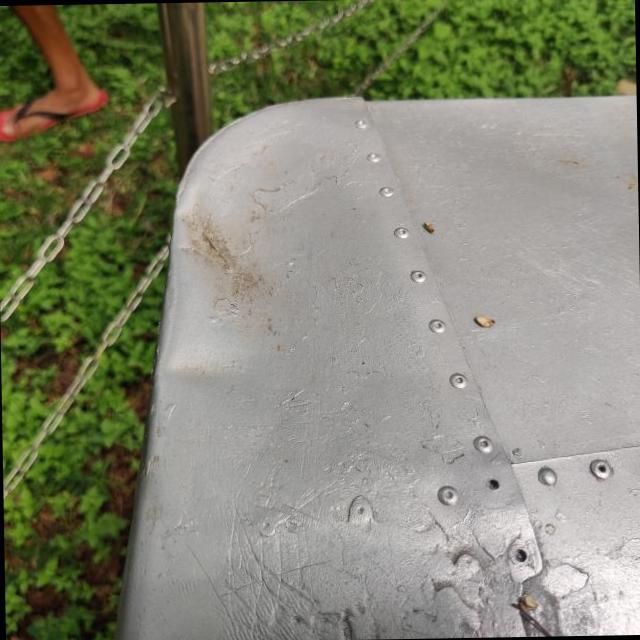Dent: (130, 310, 271, 428)
